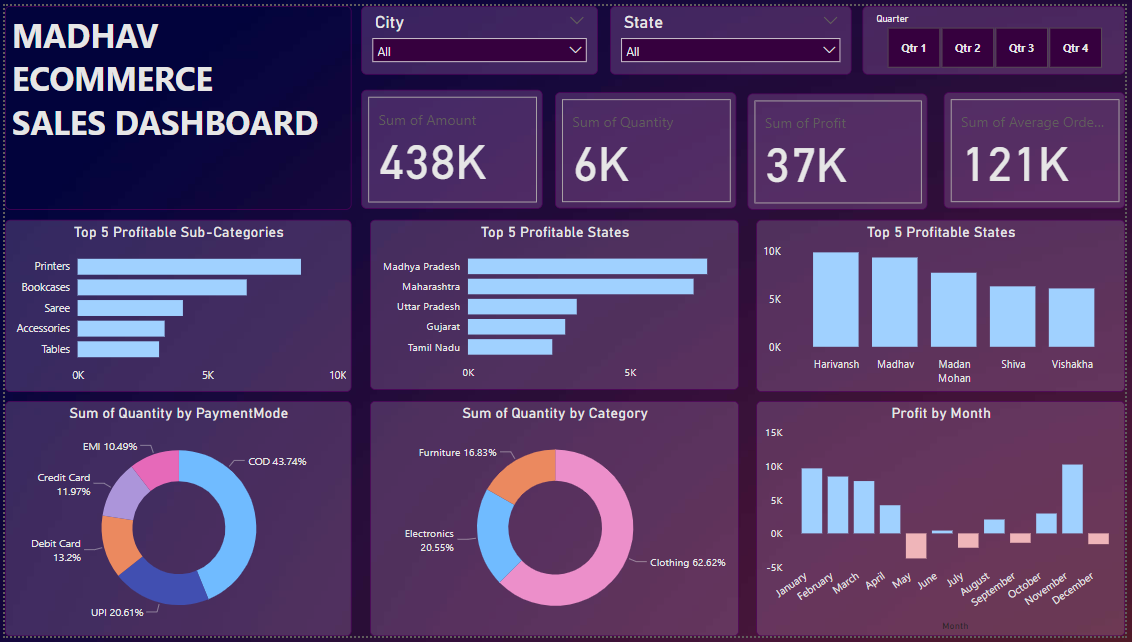

The page's visual inventory and layout, read from the dashboard file:
{"tool":"powerbi","page":{"name":"Page 1","canvas":[1280,720],"ordinal":0},"visuals":[{"type":"textbox","box":[0,0,395.7,232.9],"z":0},{"type":"columnChart","title":"Profit by Month","fields":{"Category":["Orders.Order Date.Variation.Date Hierarchy.Month"],"Y":["Details.Profit"]},"box":[858.6,451.4,421.4,268.6],"z":1000},{"type":"barChart","title":"Top 5 Profitable Sub-Categories","fields":{"Category":["Details.Sub-Category"],"Y":["Details.Profit"]},"box":[0,244.3,395.7,197.1],"z":2000},{"type":"donutChart","title":"Sum of Quantity by Category","fields":{"Category":["Details.Category"],"Y":["Details.Quantity"]},"box":[417.1,451.4,421.4,268.6],"z":3000},{"type":"donutChart","title":"Sum of Quantity by PaymentMode","fields":{"Y":["Details.Quantity"],"Category":["Details.PaymentMode"]},"box":[0,451.4,395.7,268.6],"z":4000},{"type":"cardVisual","fields":{"Data":["Details.Amount"]},"box":[407.1,95.7,207.1,135.7],"z":5000},{"type":"cardVisual","fields":{"Data":["Details.Quantity"]},"box":[628.6,98.6,207.1,132.9],"z":6000},{"type":"cardVisual","fields":{"Data":["Details.Profit"]},"box":[848.6,100,205.7,132.9],"z":7000},{"type":"cardVisual","fields":{"Data":["Details.Average Order Value"]},"box":[1072.9,98.6,207.1,132.9],"z":8000},{"type":"barChart","title":"Top 5 Profitable States","fields":{"Y":["Details.Profit"],"Category":["Orders.State"]},"box":[417.1,244.3,421.4,194.3],"z":9000},{"type":"columnChart","title":"Top 5 Profitable States","fields":{"Category":["Orders.CustomerName"],"Y":["Details.Amount"]},"box":[858.6,244.3,421.4,197.1],"z":10000},{"type":"slicer","fields":{"Values":["Orders.Order Date.Variation.Date Hierarchy.Quarter"]},"box":[980,0,300,78.6],"z":11000},{"type":"slicer","fields":{"Values":["Orders.State"]},"box":[691.4,0,275.7,78.6],"z":11001},{"type":"slicer","fields":{"Values":["Orders.City"]},"box":[407.1,0,270,78.6],"z":11003}]}

Visuals, with their boxes in screenshot pixels (x1, y1, x2, y2), scaled from the page's 1280x720 canvas onto the 1132x642 screenshot:
textbox: <bbox>0, 0, 350, 208</bbox>
"Profit by Month" columnChart: <bbox>759, 402, 1131, 641</bbox>
"Top 5 Profitable Sub-Categories" barChart: <bbox>0, 218, 350, 394</bbox>
"Sum of Quantity by Category" donutChart: <bbox>369, 402, 742, 641</bbox>
"Sum of Quantity by PaymentMode" donutChart: <bbox>0, 402, 350, 641</bbox>
cardVisual - Details.Amount: <bbox>360, 85, 543, 206</bbox>
cardVisual - Details.Quantity: <bbox>556, 88, 739, 206</bbox>
cardVisual - Details.Profit: <bbox>750, 89, 932, 208</bbox>
cardVisual - Details.Average Order Value: <bbox>949, 88, 1131, 206</bbox>
"Top 5 Profitable States" barChart: <bbox>369, 218, 742, 391</bbox>
"Top 5 Profitable States" columnChart: <bbox>759, 218, 1131, 394</bbox>
slicer - Orders.Order Date.Variation.Date Hierarchy.Quarter: <bbox>867, 0, 1131, 70</bbox>
slicer - Orders.State: <bbox>611, 0, 855, 70</bbox>
slicer - Orders.City: <bbox>360, 0, 599, 70</bbox>
